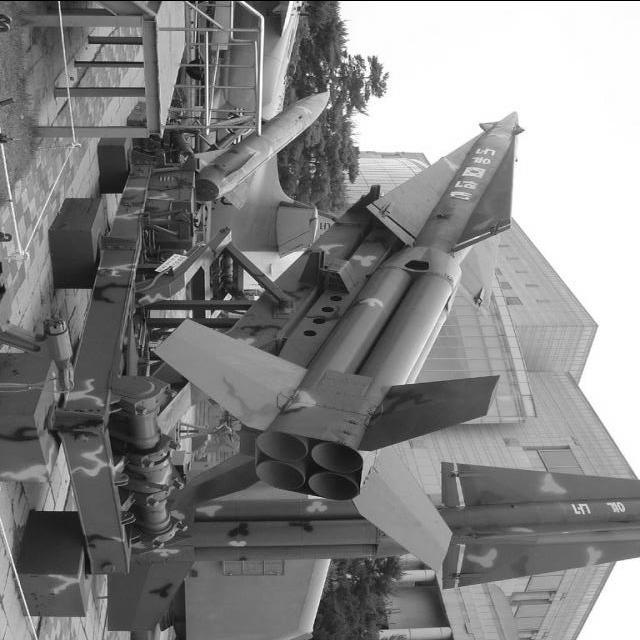missile: (178, 64, 355, 216)
